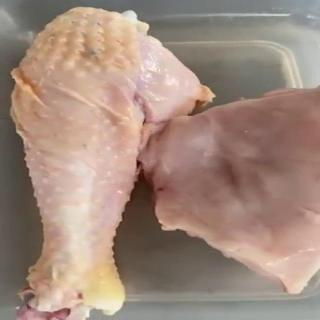Ayam: (10, 7, 218, 320), (137, 85, 320, 295)
